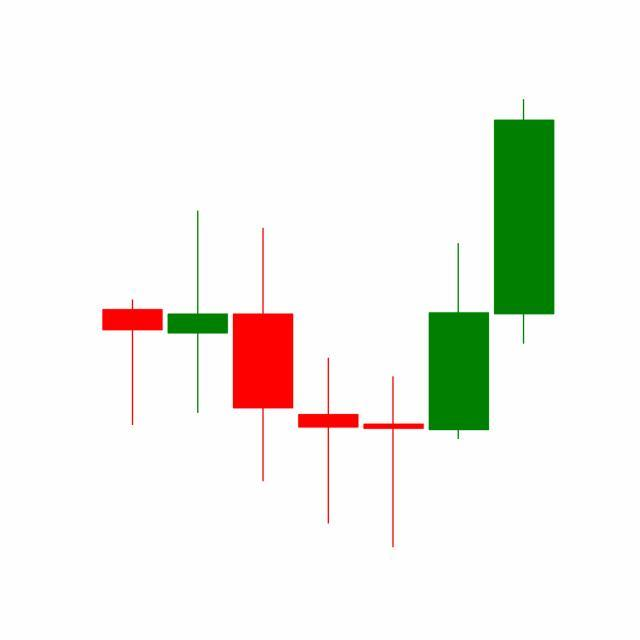Three Line Strike: (230, 224, 492, 549)
